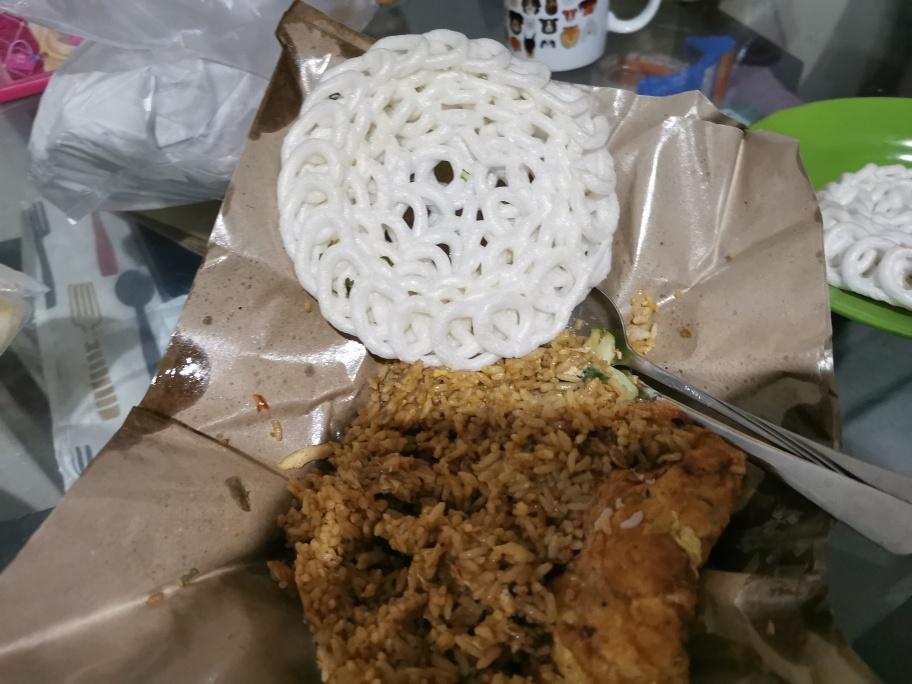kerupuk: (275, 30, 616, 364)
nasi goreng: (282, 364, 737, 684)
